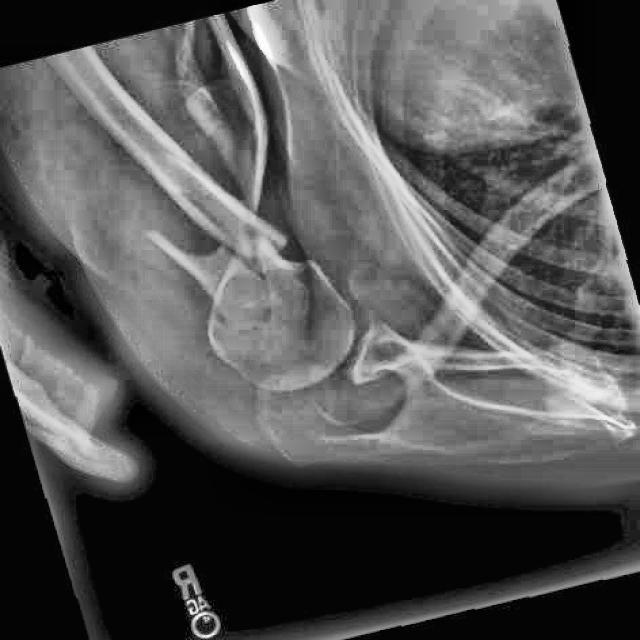humerus: (122, 127, 306, 352)
